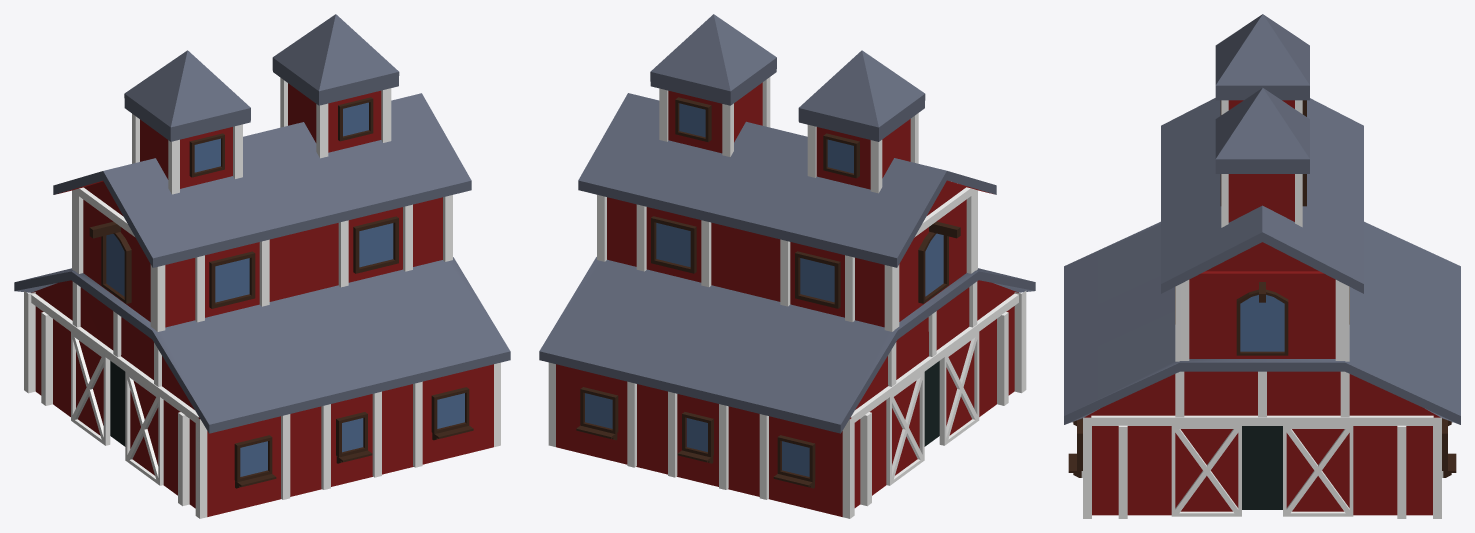
Rendered from Barn-2.glb.
3 renders of one model, left to right at view 1: azimuth 30°, elevation 25°; view 2: azimuth 150°, elevation 25°; view 3: azimuth 270°, elevation 25°, orthographic.
Visible parts, largest first — view 1: SM_Barn:SM_Barn; view 2: SM_Barn:SM_Barn; view 3: SM_Barn:SM_Barn.
Boxes of the visible parts, left/top/right/bottom form: SM_Barn:SM_Barn: left=14, top=14, right=510, bottom=518; SM_Barn:SM_Barn: left=539, top=14, right=1035, bottom=518; SM_Barn:SM_Barn: left=1064, top=14, right=1460, bottom=518.
Size of the model in its own units: 21.3 by 22.93 by 20.99.
